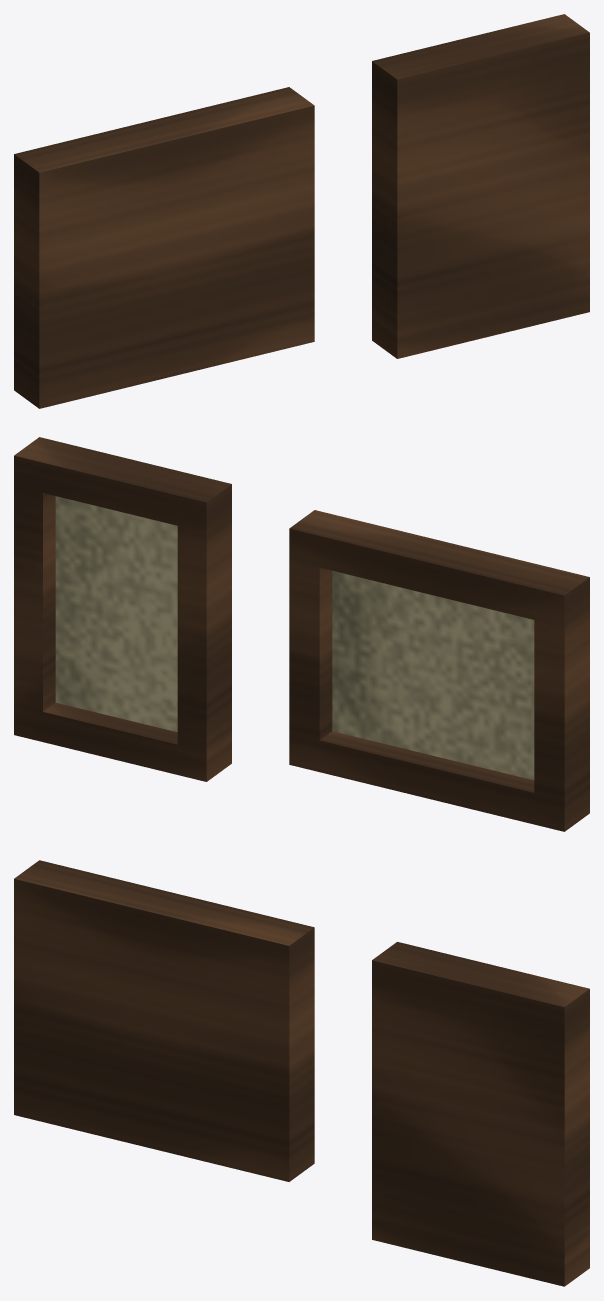
File: photo_frame.fbx
3 renders of one model, top to bottom at view 1: azimuth 30°, elevation 25°; view 2: azimuth 150°, elevation 25°; view 3: azimuth 330°, elevation 25°, orthographic.
Visible parts, largest first — view 1: photo_frame; view 2: photo_frame; view 3: photo_frame.
Boxes of the visible parts, x1=… form: photo_frame: x1=14, y1=14, x2=589, y2=408; photo_frame: x1=14, y1=437, x2=589, y2=831; photo_frame: x1=14, y1=860, x2=589, y2=1286.
Bounding box in the file's own units: 40 × 19.4 × 3.2.
